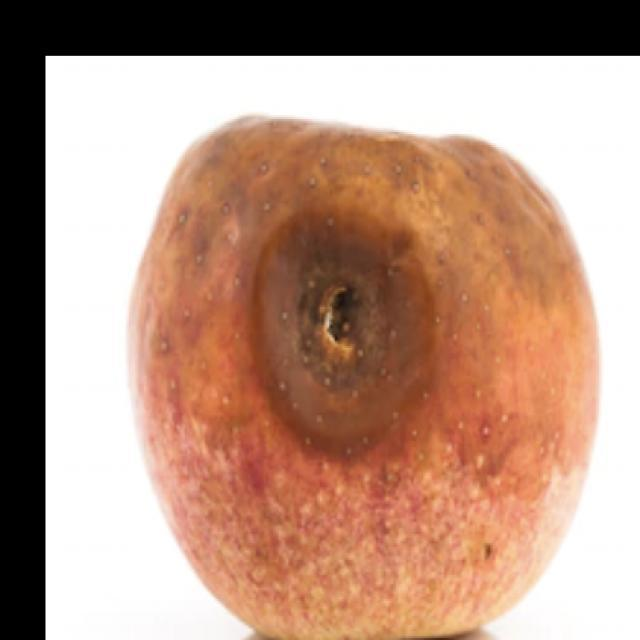Rotten: (155, 130, 617, 640)
